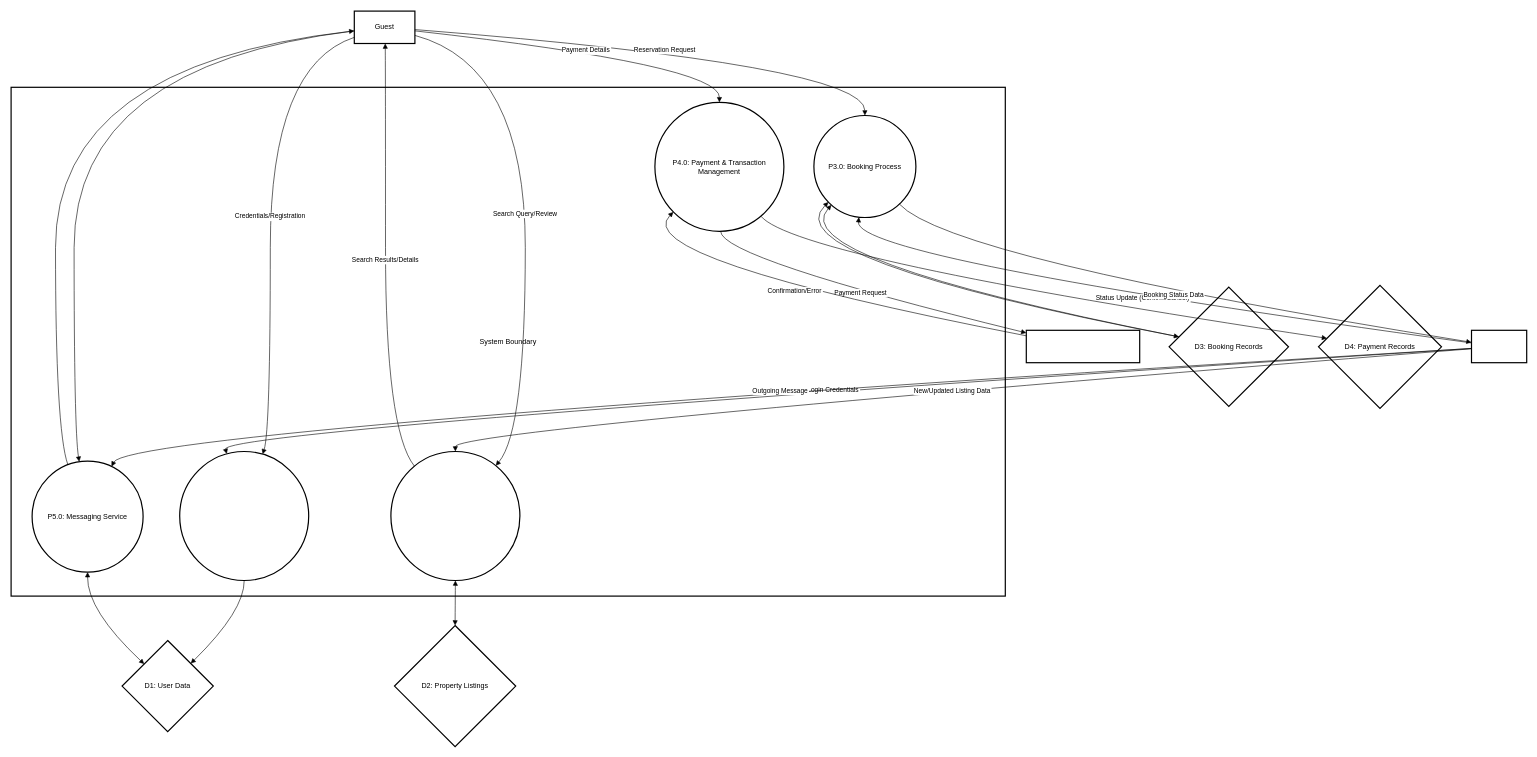
Some shapes in this 1537 by 757 pixel diagram are drawn without their labels. The centre of each missing label's shape, as x and y in pixels:
"Host" goes at pixel 1499 346.
"P1.0: User & Auth Management" goes at pixel 244 516.
"P2.0: Property & Review Management" goes at pixel 455 516.
"Payment Gateway" goes at pixel 1082 346.
